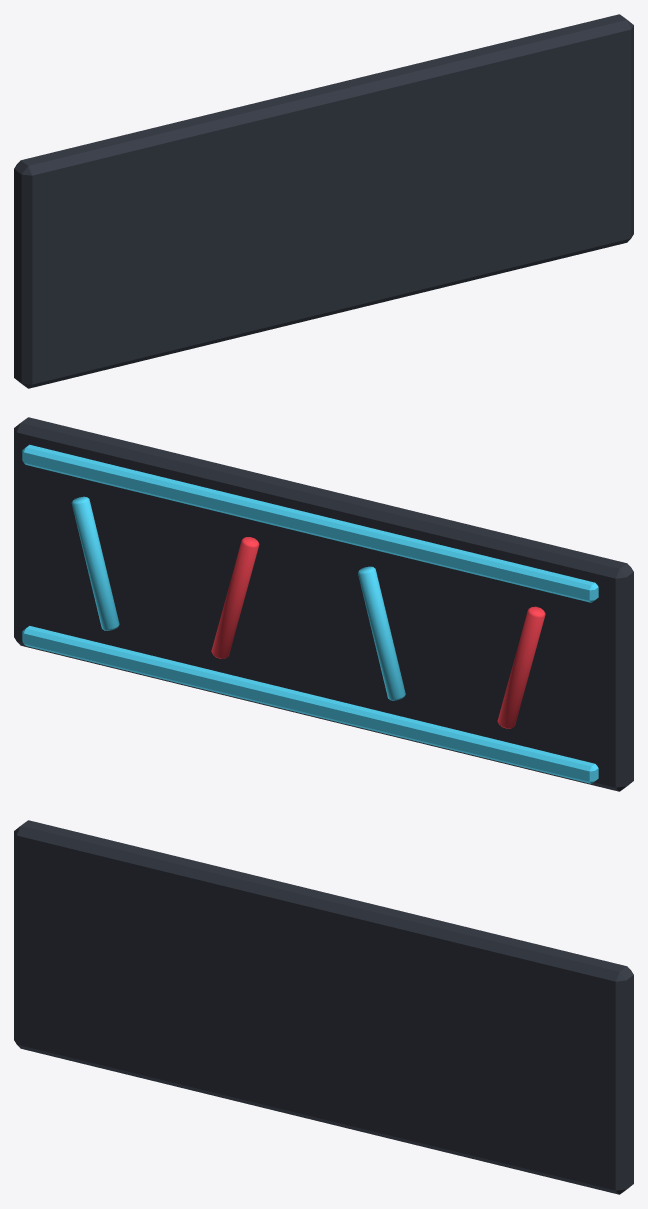
File: neon_sign_prop.obj
The picture shows the model from 3 angles, top to bottom: view 1: azimuth 30°, elevation 25°; view 2: azimuth 150°, elevation 25°; view 3: azimuth 330°, elevation 25°; orthographic projection.
Parts seen in each view (by area): view 1: Backplate; view 2: Backplate, BorderT, BorderB, Tube_1, Tube_3, Tube_0, Tube_2; view 3: Backplate.
Boxes of the visible parts, x1,y1,x2,y2 form: Backplate: (14, 14, 633, 388); Backplate: (14, 417, 633, 791); BorderT: (22, 444, 598, 602); BorderB: (22, 626, 598, 783); Tube_1: (358, 566, 405, 700); Tube_3: (71, 496, 119, 630); Tube_0: (497, 606, 545, 728); Tube_2: (211, 537, 259, 658); Backplate: (14, 820, 633, 1194).
Bounding box in the file's own units: 1.84 × 0.64 × 0.1435.
